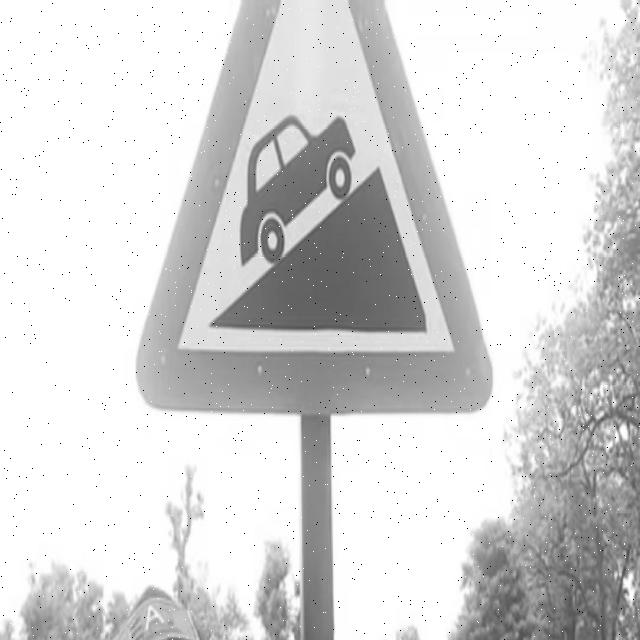steep_ascent: (136, 5, 487, 428)
